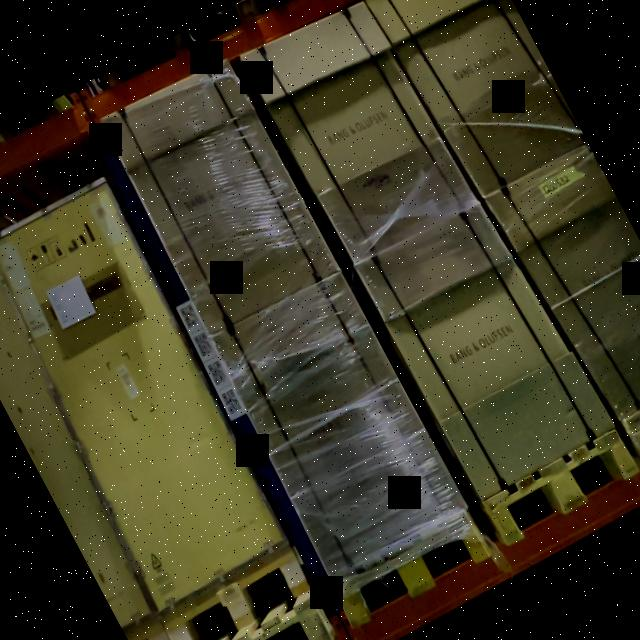box: (0, 180, 288, 600), (214, 270, 466, 576), (354, 202, 604, 502), (103, 61, 338, 336), (245, 0, 471, 262)
